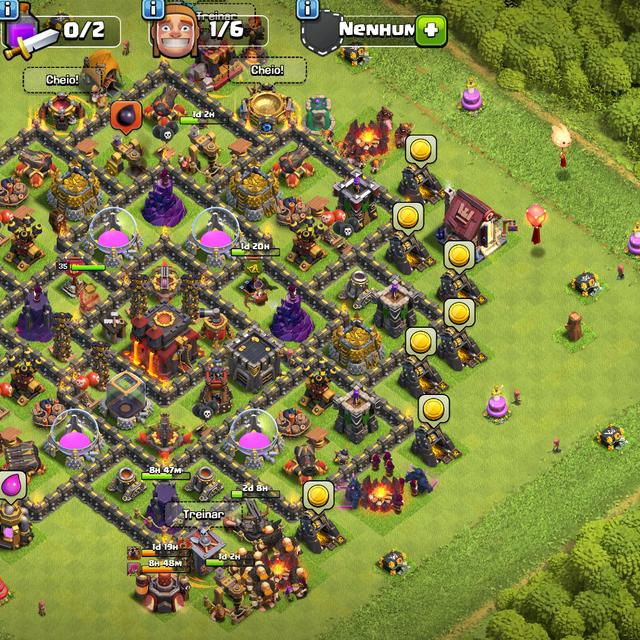Elixir: (0, 470, 28, 502)
FullElixirNegro: (110, 99, 144, 132)
coin: (300, 479, 336, 512), (419, 394, 451, 425), (406, 327, 438, 357), (405, 135, 438, 164), (444, 241, 475, 271), (445, 298, 475, 328), (394, 203, 424, 232)
